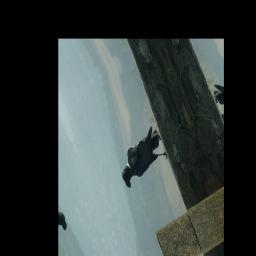Crow: (112, 124, 170, 192)
